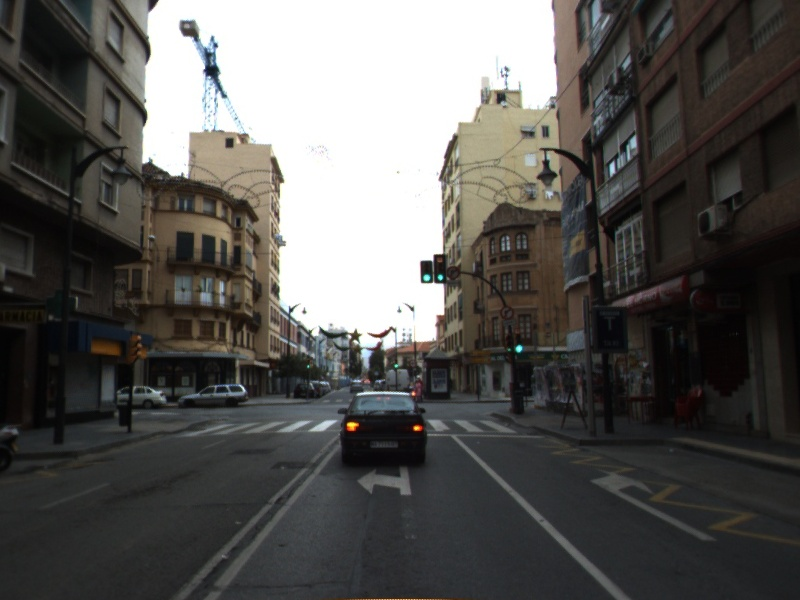RIGHT: (587, 464, 721, 544)
STRAIGHT_LEFT: (356, 462, 413, 496)
